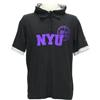abbigliamento_uomo: (11, 5, 87, 100)
